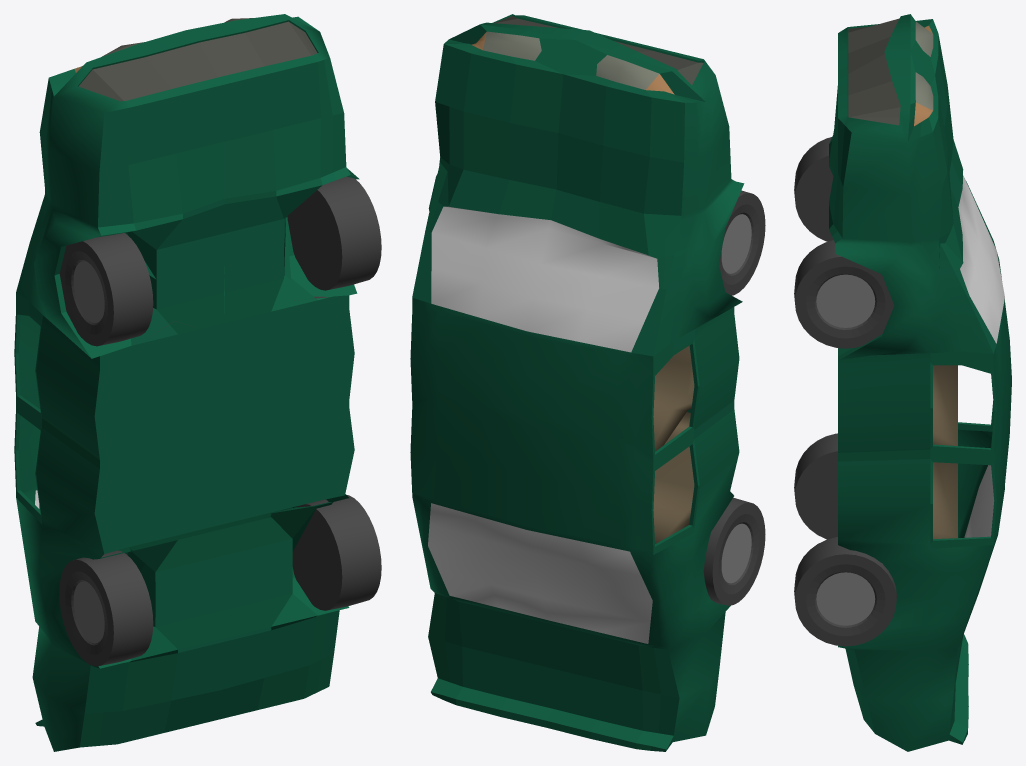
Rendered from car_zforward.fbx.
3 views of the same model, side by side, from view 1: azimuth 30°, elevation 25°; view 2: azimuth 150°, elevation 25°; view 3: azimuth 270°, elevation 25° (orthographic). The views are drawn at different scales.
Visible parts, largest first — view 1: Car; view 2: Car; view 3: Car.
Part boxes in pixels (box(x1,y1,x2,y2)): Car: box(14, 14, 381, 751); Car: box(410, 14, 765, 751); Car: box(794, 14, 1011, 751).
Size of the model in its own units: 301 by 212 by 688.
